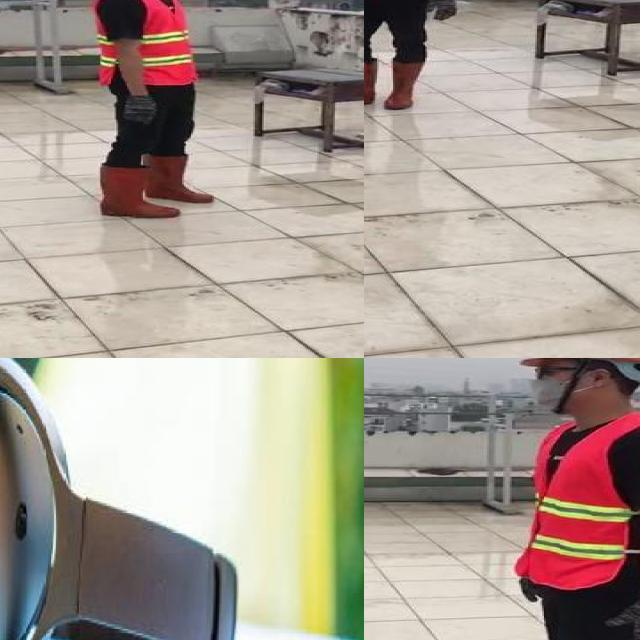Ear-protection: (0, 358, 250, 640)
boots: (98, 163, 180, 219), (141, 157, 216, 203), (382, 61, 425, 110), (364, 61, 377, 109)
face_mask: (525, 362, 595, 411)
hand_glove: (602, 597, 640, 640), (122, 94, 160, 124), (514, 576, 544, 604), (425, 0, 457, 20)
person: (472, 358, 640, 640), (79, 0, 227, 227), (364, 0, 469, 115)
vest: (519, 413, 640, 587), (93, 0, 199, 87)
